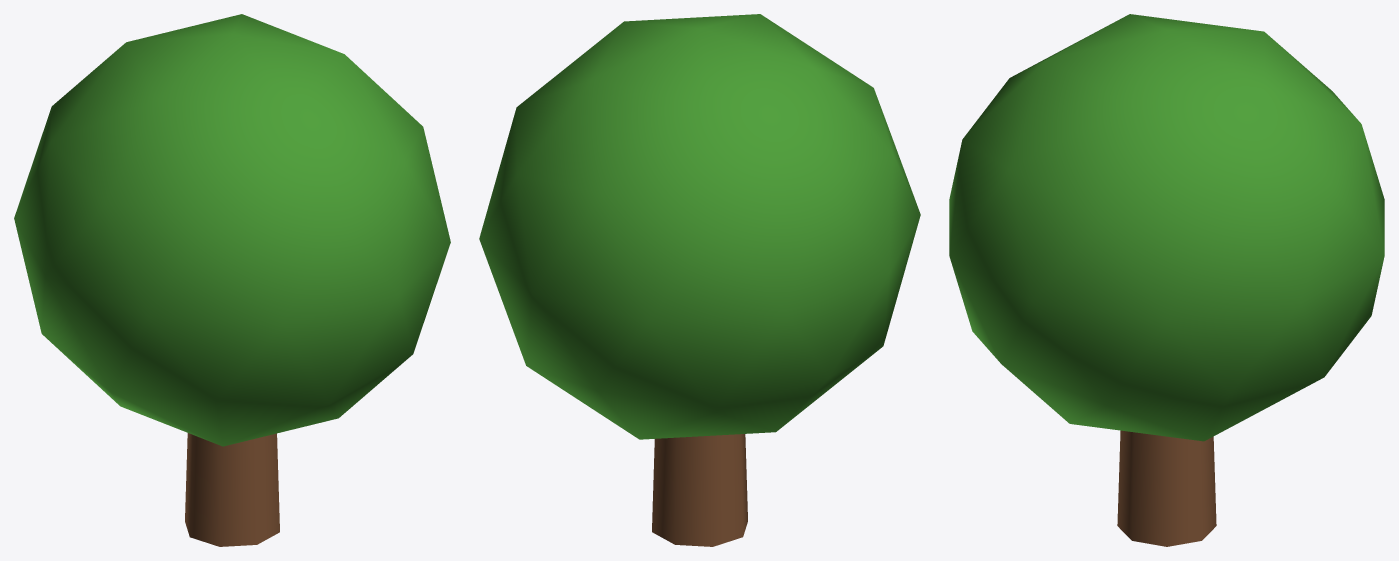
Rendered from Tree-3.fbx.
3 views of the same model, side by side, from view 1: azimuth 30°, elevation 25°; view 2: azimuth 150°, elevation 25°; view 3: azimuth 270°, elevation 25° (orthographic).
Parts seen in each view (by area): view 1: Icosphere.338, Cylinder.337; view 2: Icosphere.338, Cylinder.337; view 3: Icosphere.338, Cylinder.337.
Boxes of the visible parts, x1=… form: Icosphere.338: x1=14, y1=14, x2=450, y2=446; Cylinder.337: x1=185, y1=433, x2=279, y2=546; Icosphere.338: x1=479, y1=14, x2=920, y2=439; Cylinder.337: x1=652, y1=434, x2=747, y2=546; Icosphere.338: x1=949, y1=14, x2=1384, y2=441; Cylinder.337: x1=1117, y1=430, x2=1216, y2=546.
Size of the model in its own units: 46.02 by 57.82 by 46.02.
